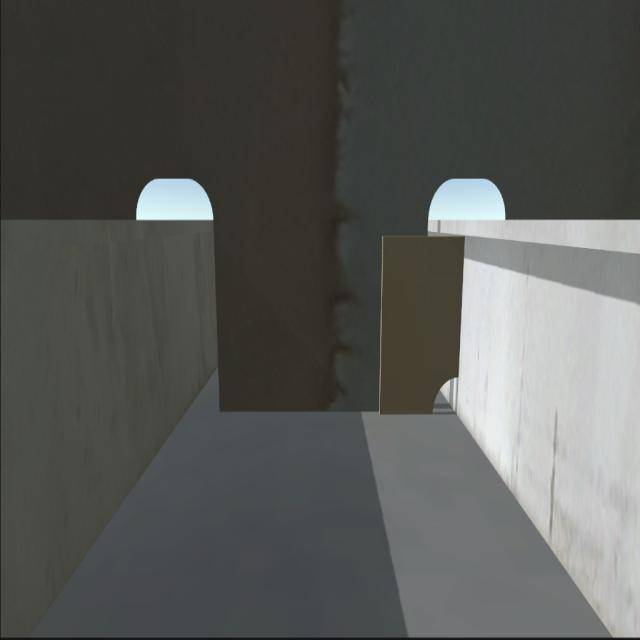fillet_hole: (420, 362, 462, 418)
fillet_yong_jeop_jang: (221, 394, 434, 426)
longi_yong_jeop_jang: (449, 231, 469, 380)
plate_CP01: (384, 235, 451, 402)
